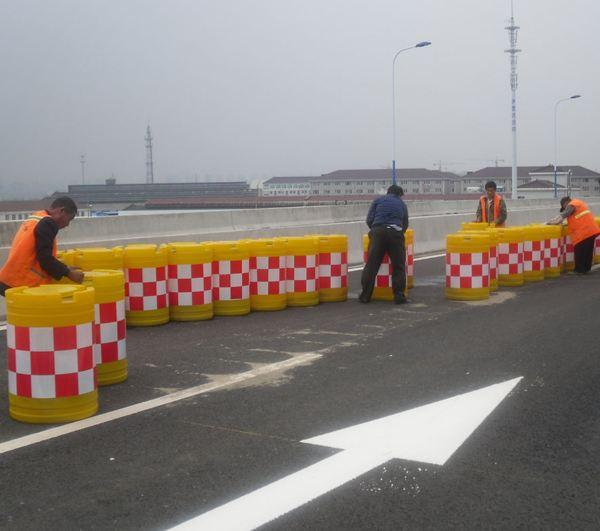sign: (77, 232, 349, 324), (2, 281, 100, 425), (492, 228, 563, 283), (444, 231, 490, 302)
